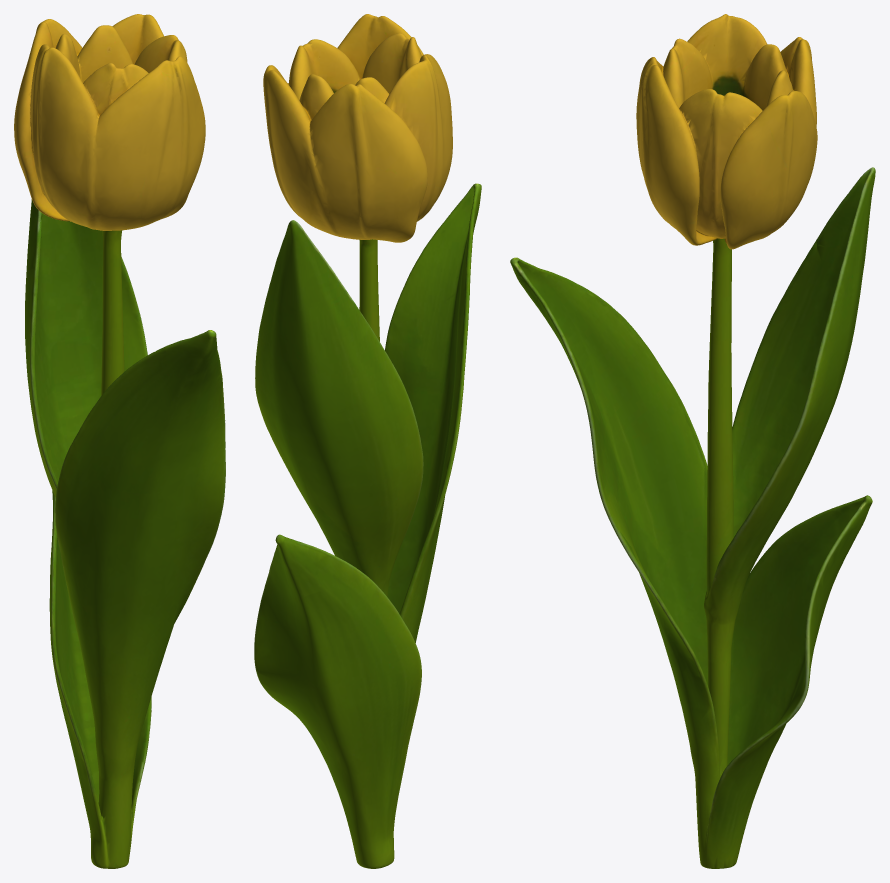
Rendered from Tulip Yelllow.glb.
The picture shows the model from 3 angles, left to right: view 1: azimuth 30°, elevation 25°; view 2: azimuth 150°, elevation 25°; view 3: azimuth 270°, elevation 25°; orthographic projection.
Parts seen in each view (by area): view 1: tripo_node_c75c7d4a-3621-45f5-b093-bdd33823566a; view 2: tripo_node_c75c7d4a-3621-45f5-b093-bdd33823566a; view 3: tripo_node_c75c7d4a-3621-45f5-b093-bdd33823566a.
Part boxes in pixels (left/top/right/bottom): tripo_node_c75c7d4a-3621-45f5-b093-bdd33823566a: left=14, top=14, right=225, bottom=868; tripo_node_c75c7d4a-3621-45f5-b093-bdd33823566a: left=254, top=14, right=481, bottom=868; tripo_node_c75c7d4a-3621-45f5-b093-bdd33823566a: left=510, top=14, right=875, bottom=868.
Bounding box in the file's own units: 0.2011 × 1 × 0.4023.
1 material, 1 textured.
